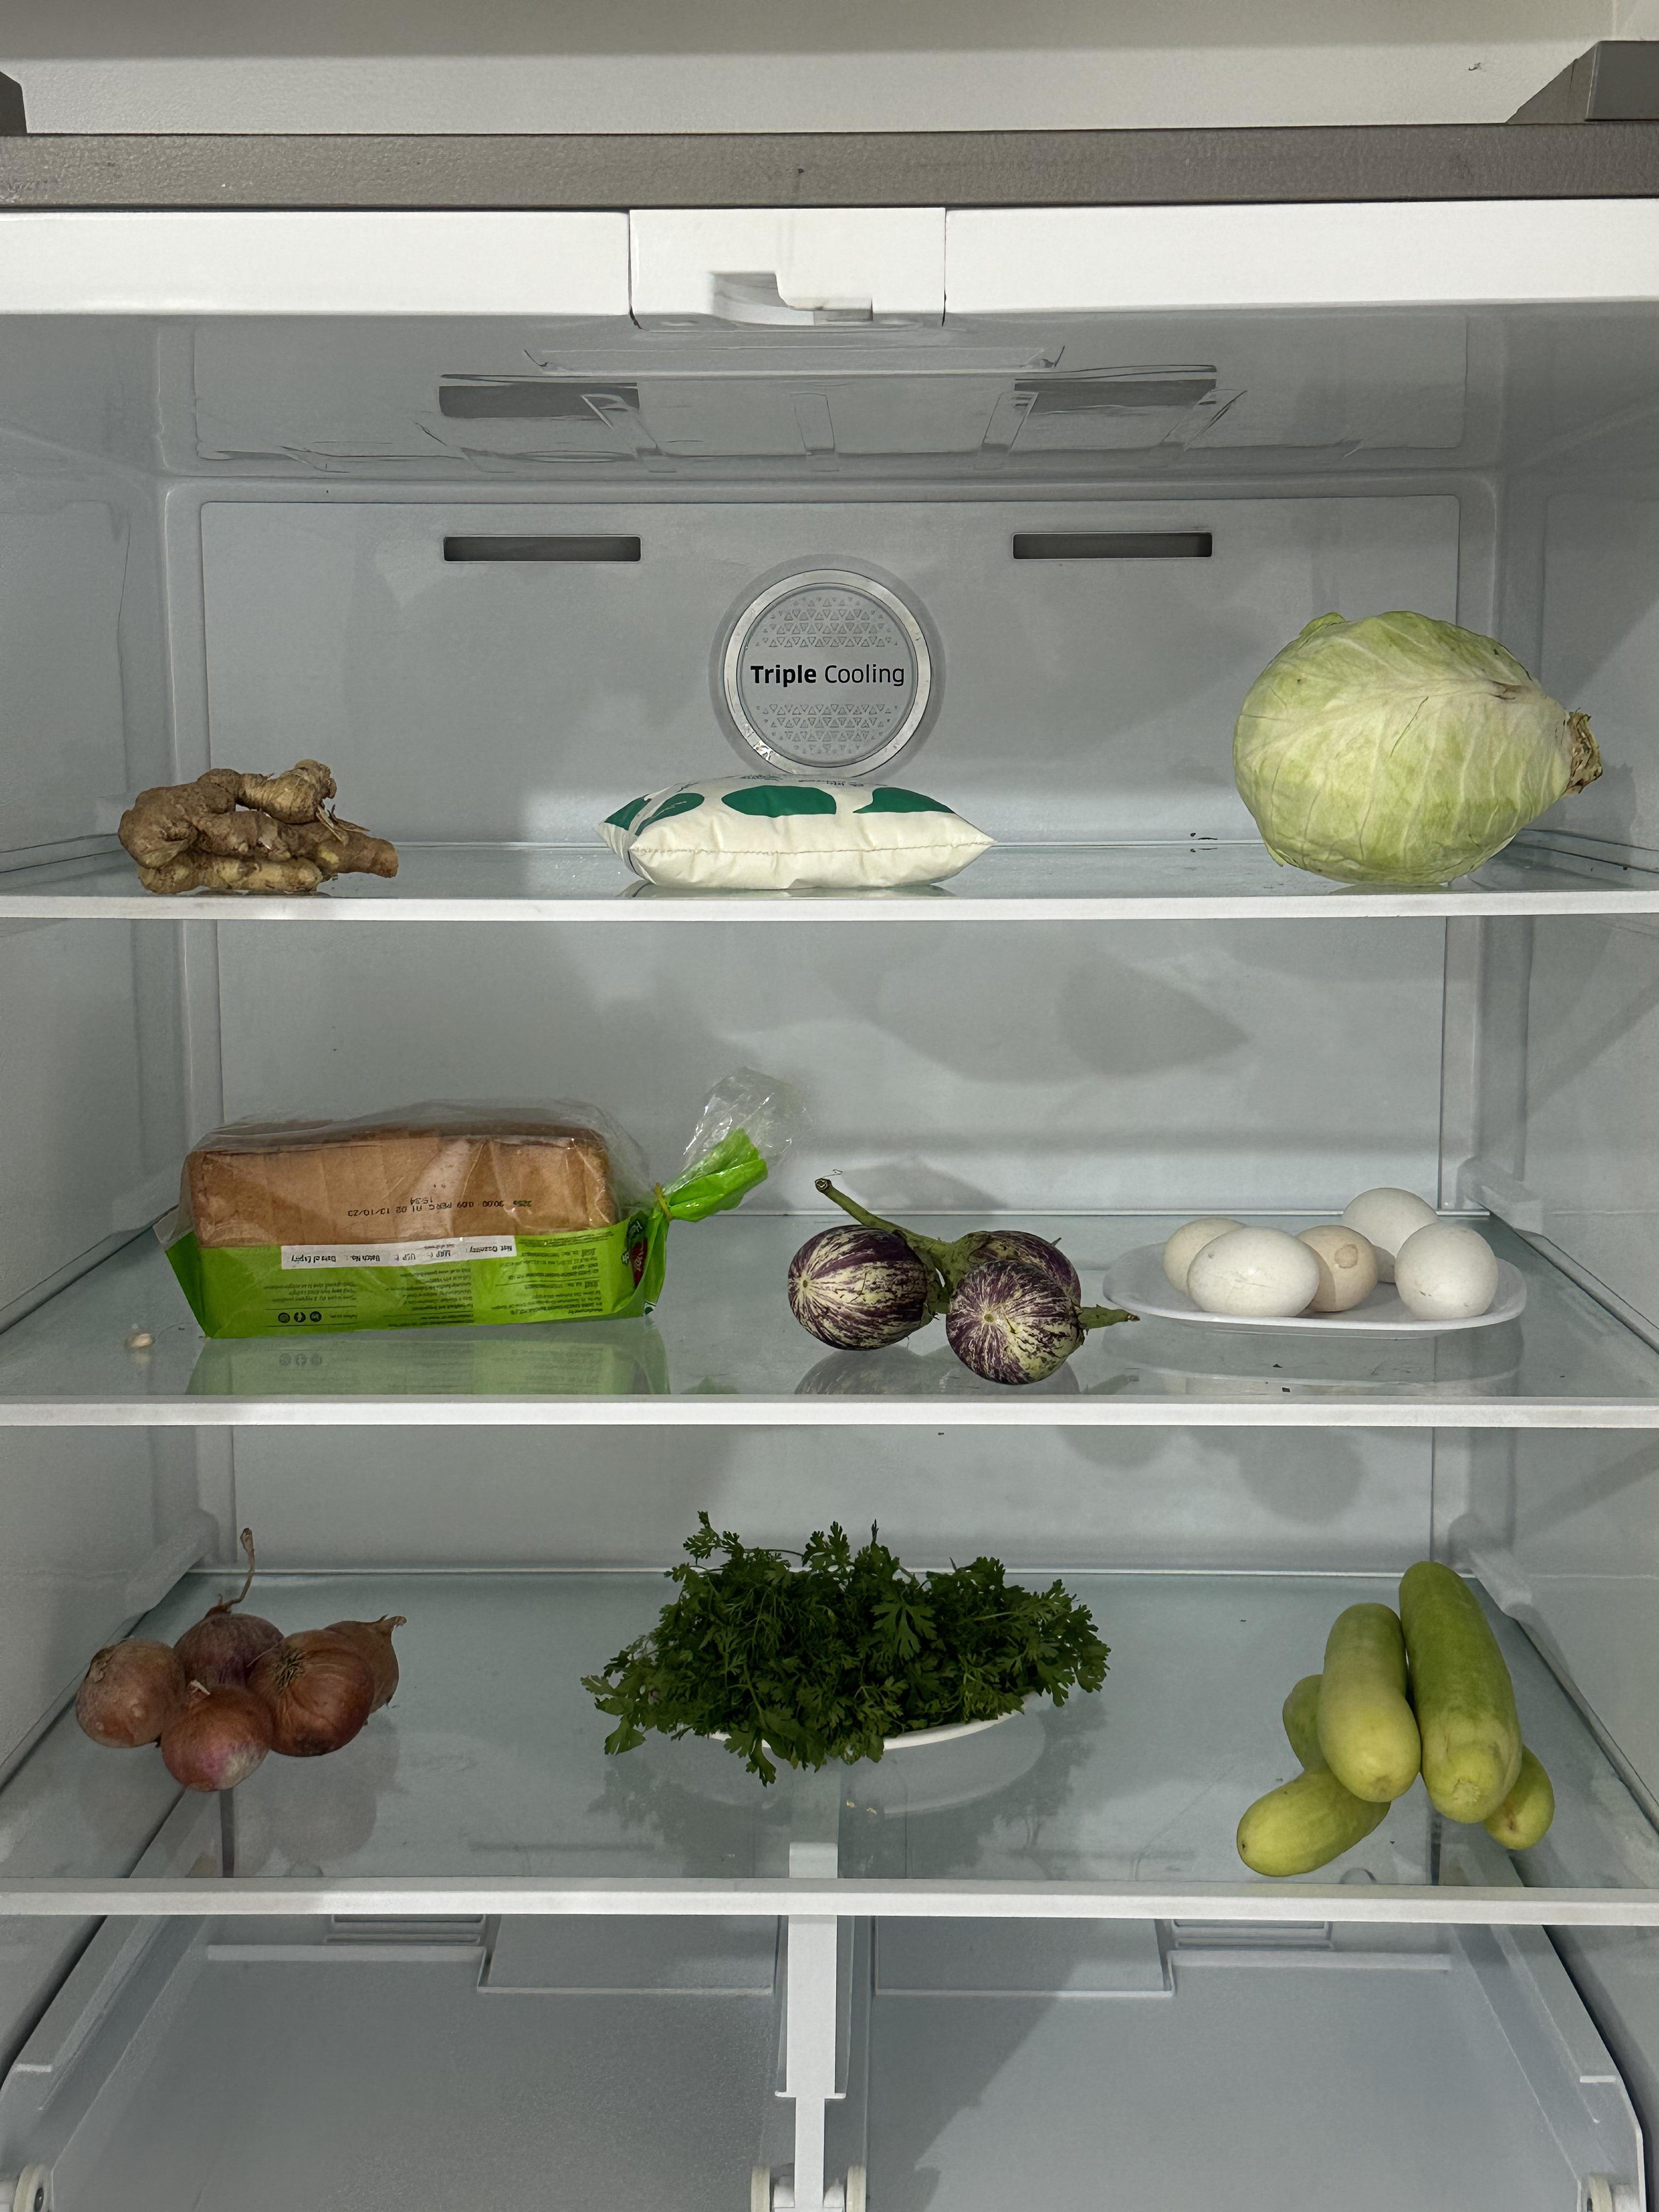bread: (169, 1094, 662, 1338)
bringal: (789, 1169, 1093, 1383)
cabbage: (1236, 610, 1595, 881)
coriander: (594, 1498, 1101, 1764)
cucumber: (1232, 1562, 1568, 1888)
egg: (1154, 1186, 1507, 1331)
ginger: (110, 756, 410, 906)
milk: (599, 765, 997, 895)
onion: (61, 1590, 411, 1797)
